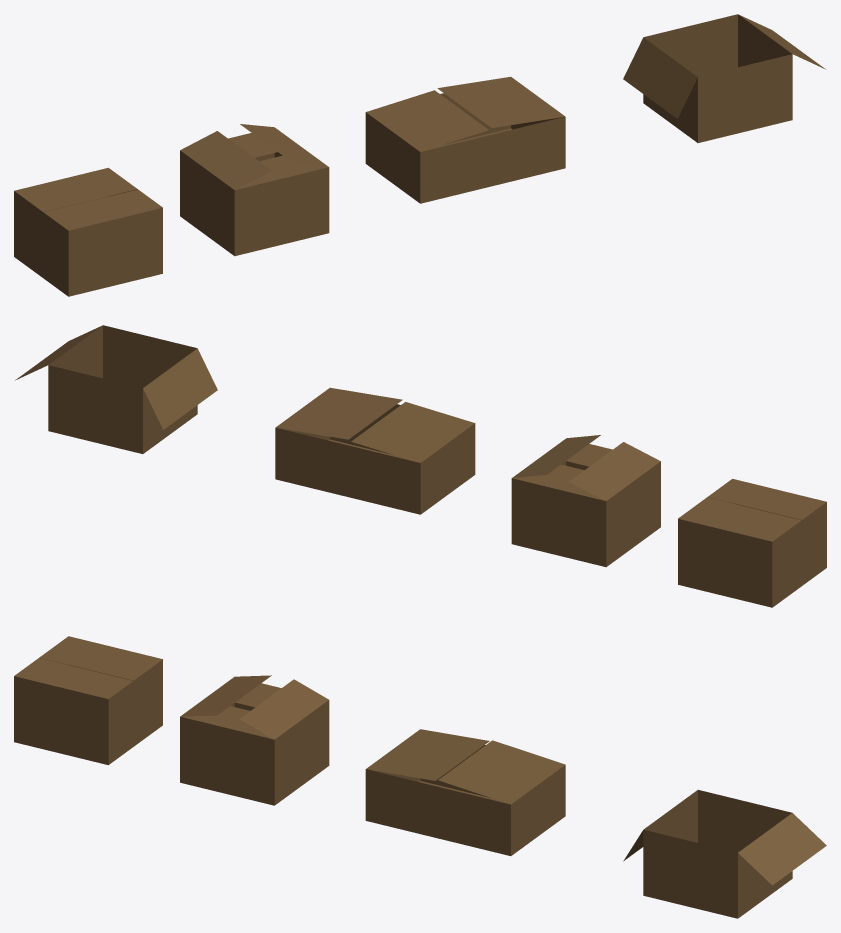
Rendered from boxes.fbx.
3 views of the same model, one above another, from view 1: azimuth 30°, elevation 25°; view 2: azimuth 150°, elevation 25°; view 3: azimuth 330°, elevation 25° (orthographic).
Visible parts, largest first — view 1: Cube.001, Cube, Cube.002, Cube.003; view 2: Cube.001, Cube, Cube.002, Cube.003; view 3: Cube.001, Cube, Cube.002, Cube.003.
Boxes of the visible parts, x1,y1,x2,y2 form: Cube.001: (365,76,565,203); Cube: (623,14,825,142); Cube.002: (180,124,329,256); Cube.003: (14,167,162,296); Cube.001: (275,387,475,514); Cube: (15,325,217,453); Cube.002: (511,435,660,567); Cube.003: (678,478,826,607); Cube.001: (365,729,565,855); Cube: (623,790,826,918); Cube.002: (180,675,329,805); Cube.003: (14,636,162,765).
Bounding box in the file's own units: 1604 × 158 × 201.
